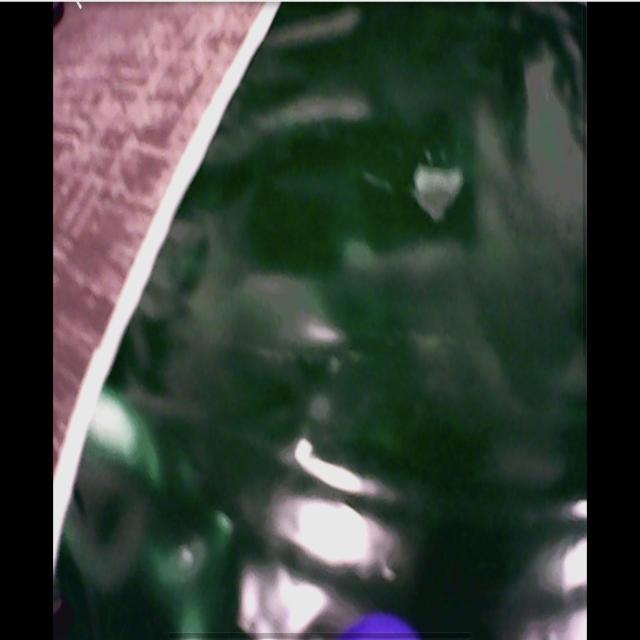ball: (346, 617, 426, 640)
